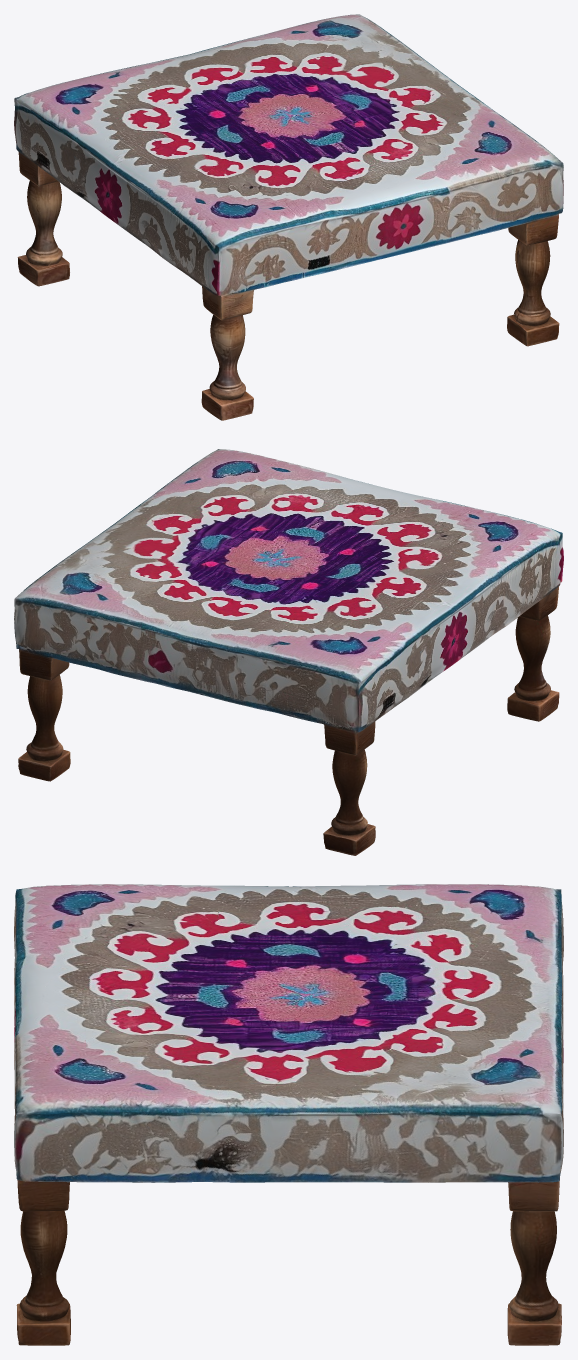
3 views of the same model, one above another, from view 1: azimuth 30°, elevation 25°; view 2: azimuth 150°, elevation 25°; view 3: azimuth 270°, elevation 25° (orthographic). The views are drawn at different scales.
Visible parts, largest first — view 1: model; view 2: model; view 3: model.
Part boxes in pixels (x1,y1,x2,y2): model: (14,14,563,420); model: (14,449,563,855); model: (14,884,563,1345).
Size of the model in its own units: 0.862 by 0.44 by 0.883.
Materials: 1 (1 with a texture image).
